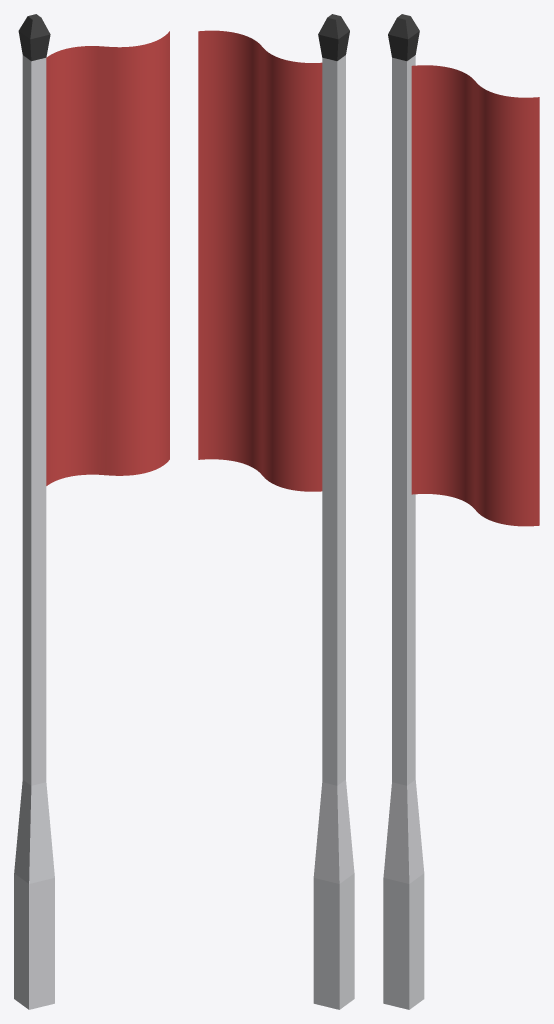
Rendered from flagRed.glb.
3 renders of one model, left to right at view 1: azimuth 30°, elevation 25°; view 2: azimuth 150°, elevation 25°; view 3: azimuth 330°, elevation 25°, orthographic.
Visible parts, largest first — view 1: flagRed, Group; view 2: flagRed, Group; view 3: flagRed, Group.
Part boxes in pixels (x1,y1,x2,y2): flagRed: [46, 31, 169, 485]; Group: [14, 14, 54, 1009]; flagRed: [198, 30, 322, 491]; Group: [313, 14, 354, 1009]; flagRed: [411, 65, 539, 526]; Group: [383, 14, 424, 1009].
Bounding box in the file's own units: 0.1972 × 1.25 × 0.0352.
